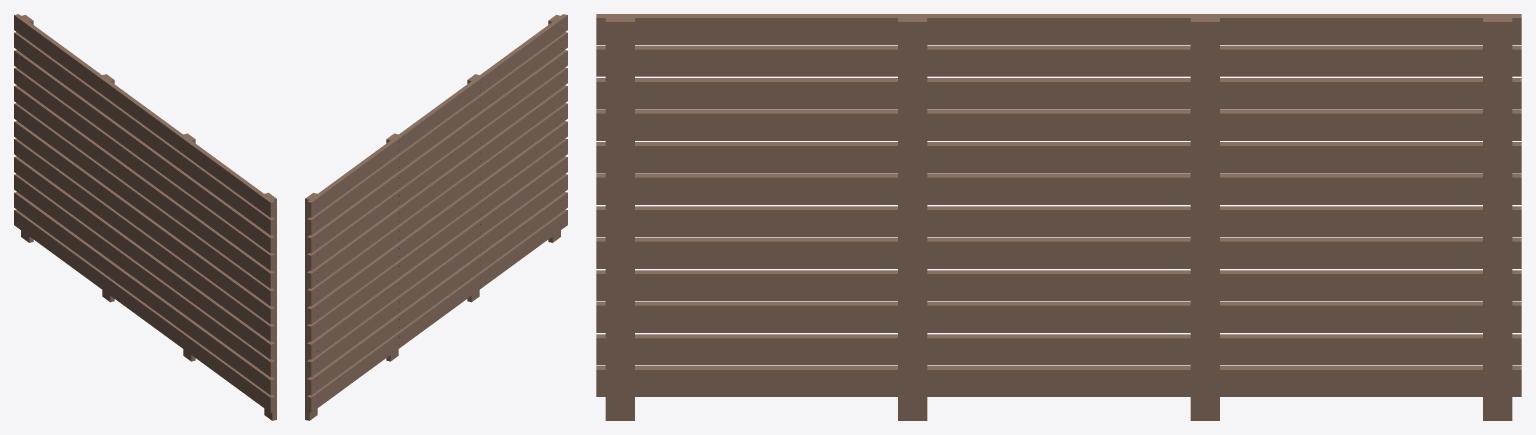
The model's file is garden1.fbx.
3 renders of one model, left to right at view 1: azimuth 30°, elevation 25°; view 2: azimuth 150°, elevation 25°; view 3: azimuth 270°, elevation 25°, orthographic. The views are drawn at different scales.
Parts seen in each view (by area): view 1: Component_26_1, Component_25_1; view 2: Component_26_1, Component_25_1; view 3: Component_26_1, Component_25_1.
Boxes of the visible parts, bbox=[...] form: Component_26_1: bbox=[14, 14, 274, 412]; Component_25_1: bbox=[21, 15, 276, 420]; Component_26_1: bbox=[307, 14, 567, 412]; Component_25_1: bbox=[305, 15, 560, 420]; Component_26_1: bbox=[596, 14, 1521, 396]; Component_25_1: bbox=[605, 18, 1512, 420].
Size of the model in its own units: 6.8 by 161 by 339.
